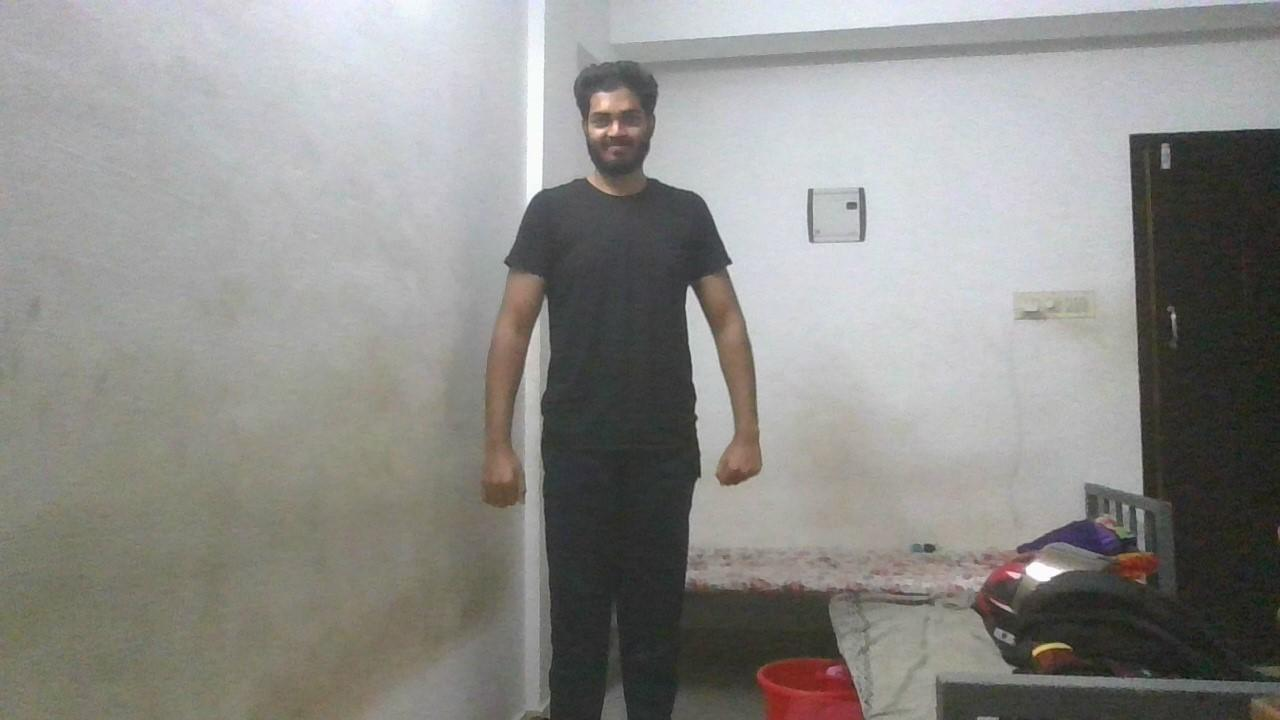nohelmet: (573, 59, 661, 180)
